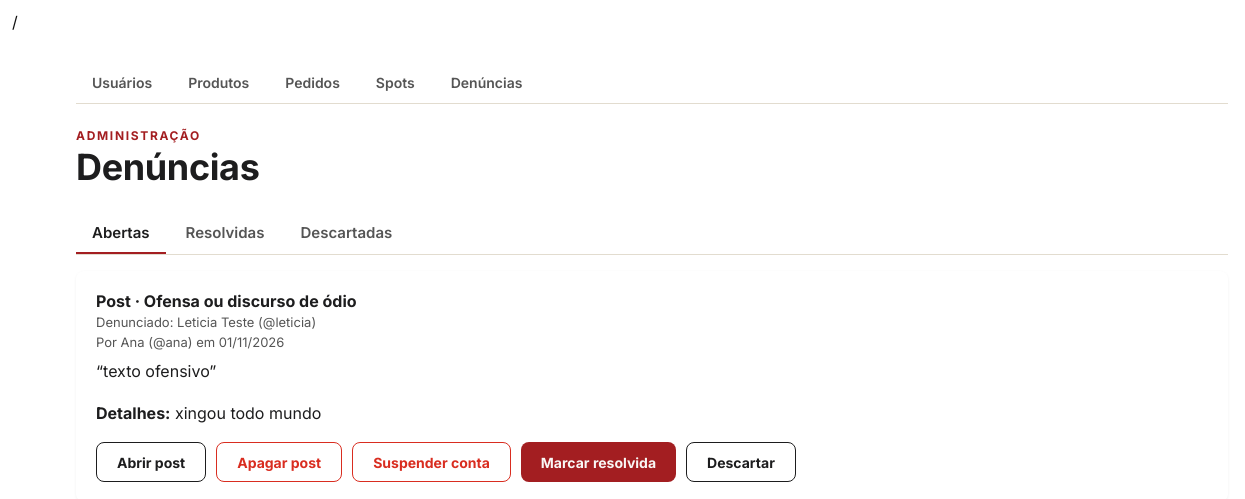
Test: painel de denúncias › mostra o trecho e quem foi denunciado, e apagar o post resolve a denúncia
Expected: the text "“texto ofensivo”" is shown, x1=96 y1=361 x2=216 y2=381
Expected: the text "Denunciado: Leticia Teste (@leticia)" is shown, x1=96 y1=314 x2=316 y2=350
Step 1. Click the button "Apagar post" → (279, 462), box x1=216 y1=442 x2=342 y2=482
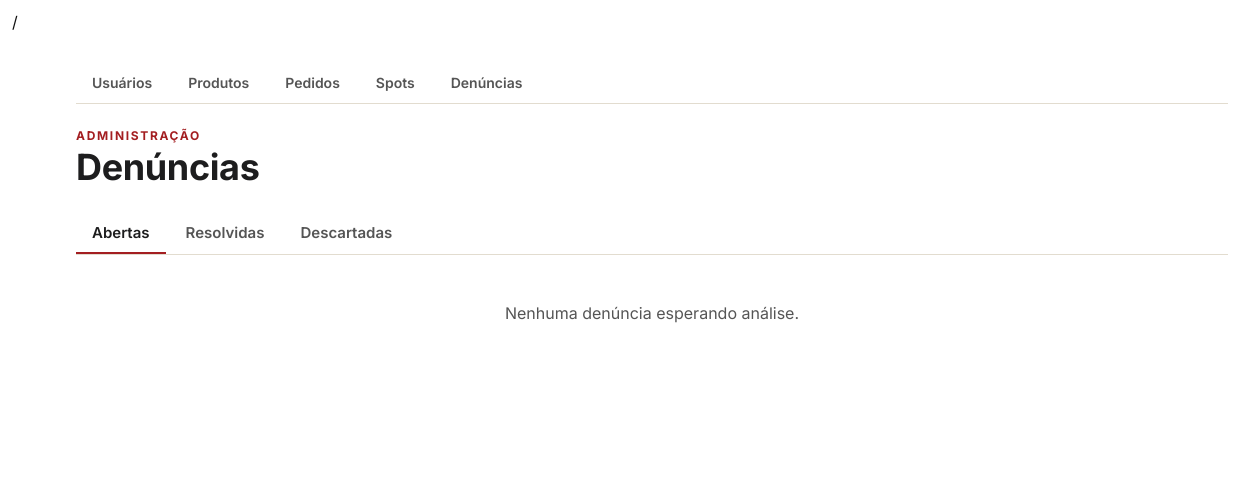
Expected: the text "Nenhuma denúncia esperando análise." is shown, x1=505 y1=303 x2=799 y2=323
